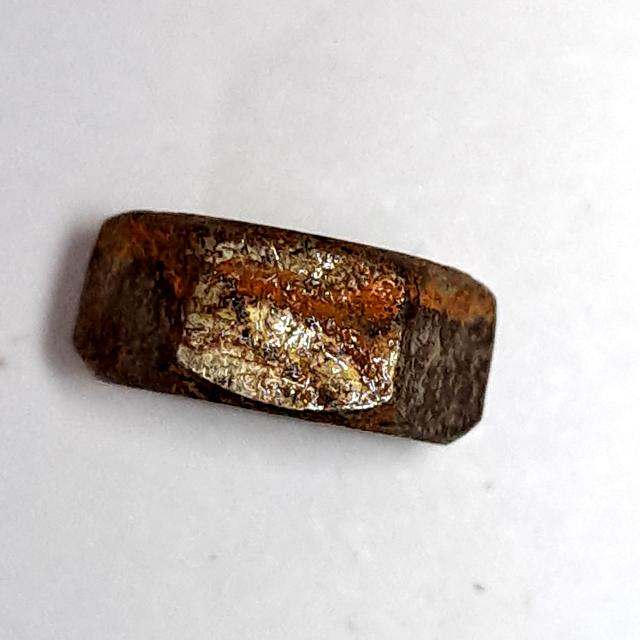Side_Rust: (49, 199, 519, 471)
